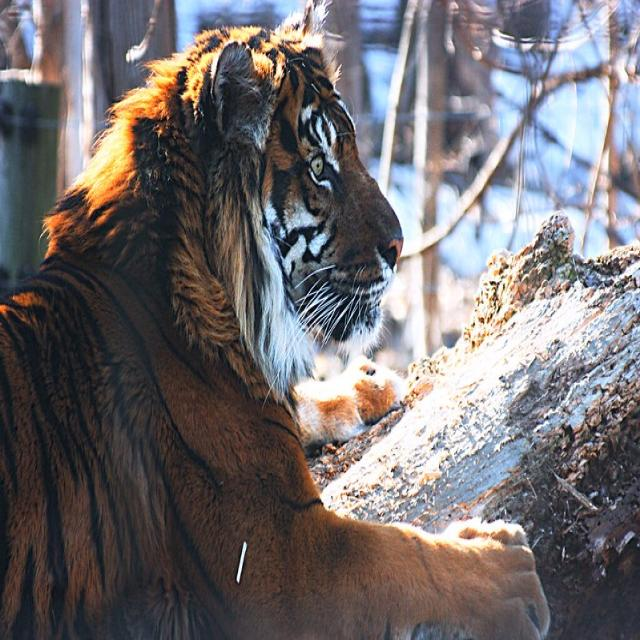Tiger: (0, 18, 552, 638)
